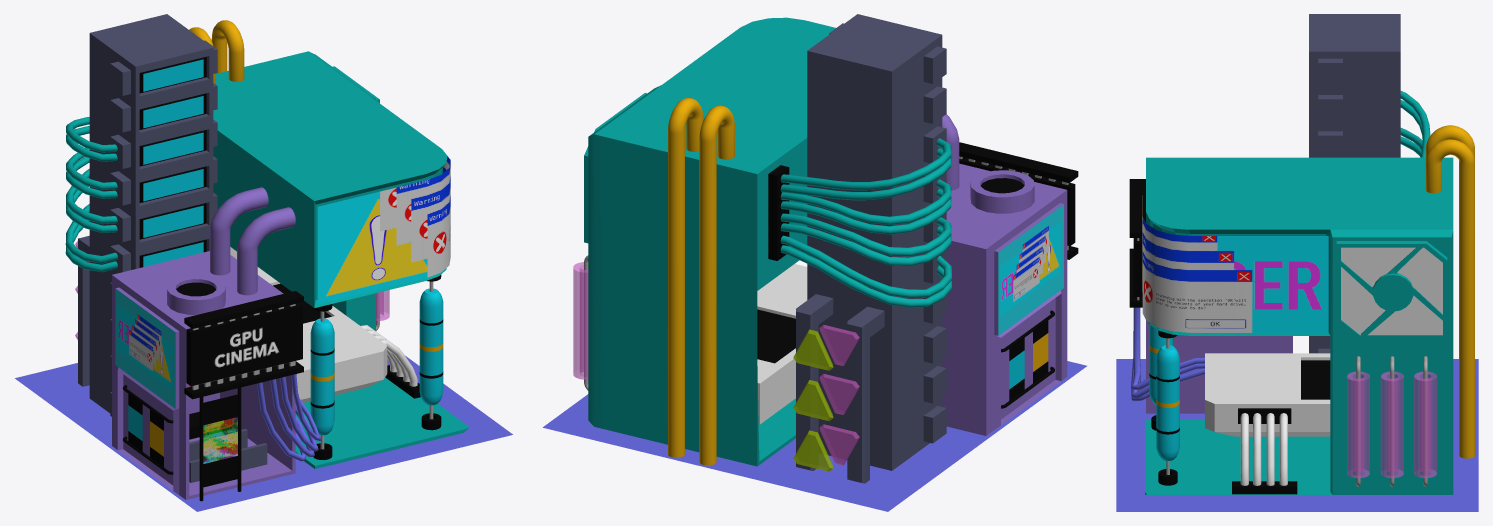
Rendered from Building_B_02.fbx.
The picture shows the model from 3 angles, left to right: view 1: azimuth 30°, elevation 25°; view 2: azimuth 150°, elevation 25°; view 3: azimuth 270°, elevation 25°; orthographic projection. The views are drawn at different scales.
Visible parts, largest first — view 1: building_1, building_3, building_2, Display, YUKA, cinema_signboard, GPU, Poster, Cylinder_right, Cylinder_left, pipe_1, pipe_2 (+20 smaller); view 2: building_1, building_3, building_2, YUKA, pipe_3, pipe_4, GPU, building_3_Pillar_1, cinema_rooftop_circle, building_3_Pillar_2, green_cable_7, light_cylinder_3 (+20 smaller); view 3: building_1, Display, building_3, YUKA, GPU, fan_Plane, pipe_4, building_2, Cylinder_right, light_cylinder_3, light_cylinder_2, light_cylinder_1 (+17 smaller).
Boxes of the visible parts, bbox=[...] form: building_1: bbox=[213, 51, 469, 468]; building_3: bbox=[89, 14, 217, 416]; building_2: bbox=[112, 251, 295, 499]; Display: bbox=[317, 156, 450, 304]; YUKA: bbox=[15, 355, 512, 511]; cinema_signboard: bbox=[186, 303, 302, 386]; GPU: bbox=[257, 267, 387, 402]; Poster: bbox=[203, 394, 237, 487]; Cylinder_right: bbox=[419, 288, 443, 405]; Cylinder_left: bbox=[310, 318, 334, 435]; pipe_1: bbox=[237, 207, 295, 295]; pipe_2: bbox=[210, 187, 268, 275]; building_1: bbox=[588, 17, 835, 466]; building_3: bbox=[807, 14, 946, 470]; building_2: bbox=[942, 163, 1067, 435]; YUKA: bbox=[543, 361, 1086, 511]; pipe_3: bbox=[699, 105, 734, 465]; pipe_4: bbox=[668, 98, 703, 457]; GPU: bbox=[757, 264, 807, 424]; building_3_Pillar_1: bbox=[847, 306, 884, 483]; cinema_rooftop_circle: bbox=[970, 170, 1034, 213]; building_3_Pillar_2: bbox=[796, 294, 833, 470]; green_cable_7: bbox=[780, 235, 951, 297]; light_cylinder_3: bbox=[573, 262, 588, 379]; building_1: bbox=[1145, 157, 1453, 494]; Display: bbox=[1142, 195, 1328, 332]; building_3: bbox=[1309, 14, 1400, 353]; YUKA: bbox=[1116, 359, 1478, 511]; GPU: bbox=[1205, 353, 1330, 436]; fan_Plane: bbox=[1341, 247, 1442, 334]; pipe_4: bbox=[1425, 139, 1474, 458]; building_2: bbox=[1146, 320, 1292, 413]; Cylinder_right: bbox=[1156, 345, 1179, 460]; light_cylinder_3: bbox=[1414, 371, 1437, 478]; light_cylinder_2: bbox=[1380, 371, 1403, 478]; light_cylinder_1: bbox=[1347, 371, 1369, 478].
Size of the model in its own units: 20 by 22.08 by 20.
